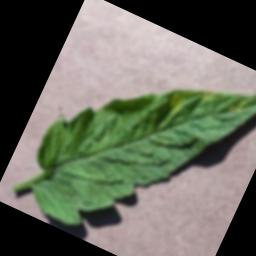Leaf_Mold: (164, 88, 188, 114), (225, 93, 250, 117), (192, 82, 219, 104)
